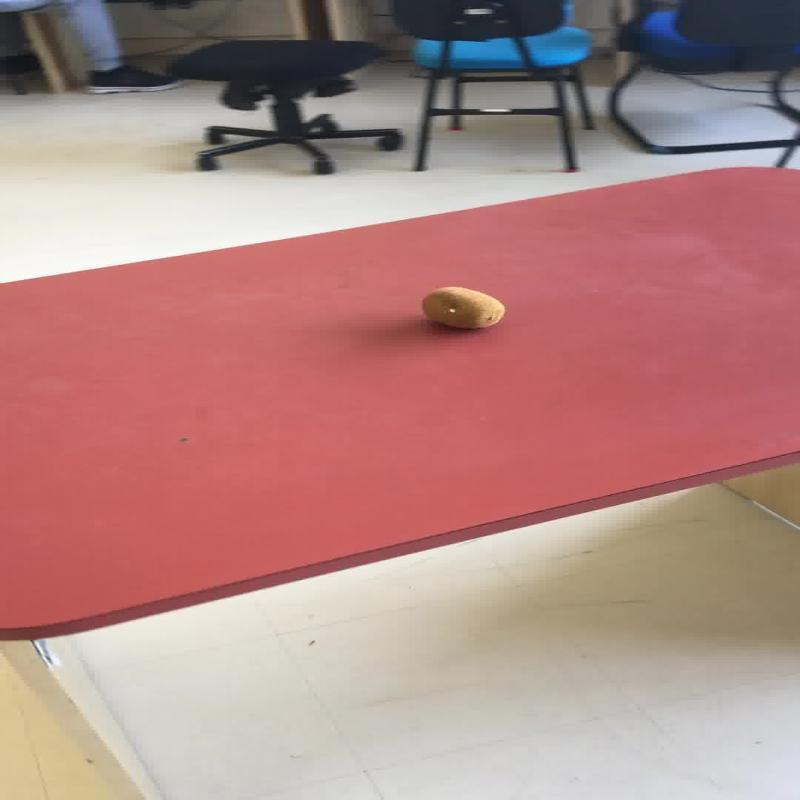kiwi: (420, 286, 504, 328)
